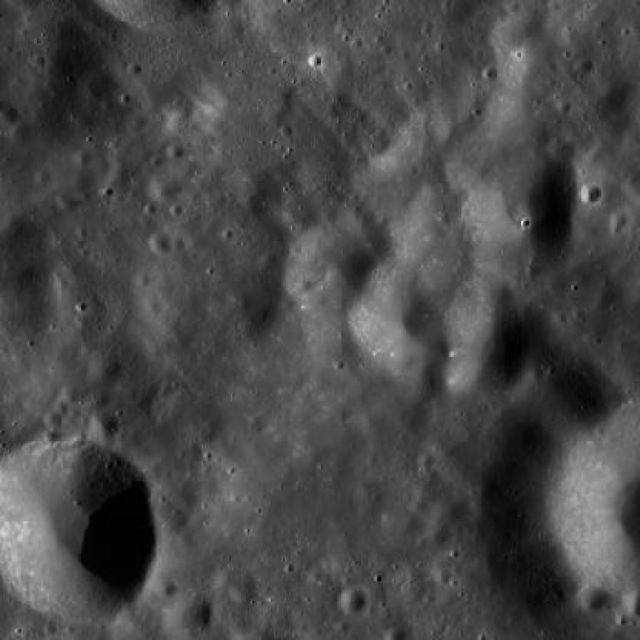crater: (0, 438, 163, 619), (143, 222, 282, 358), (456, 158, 582, 279), (422, 286, 538, 400), (192, 66, 305, 176), (287, 221, 384, 317), (351, 268, 444, 359), (362, 142, 449, 228), (530, 352, 616, 438), (392, 208, 472, 287), (0, 276, 57, 339), (498, 38, 558, 96), (490, 6, 548, 65), (0, 182, 45, 256), (300, 152, 354, 206), (164, 591, 213, 640), (504, 110, 548, 152), (406, 360, 448, 402), (384, 503, 426, 543), (280, 193, 318, 230), (414, 188, 451, 226), (353, 478, 389, 512), (400, 116, 434, 152), (417, 330, 451, 364), (86, 408, 120, 441), (187, 408, 221, 441), (599, 76, 632, 110), (85, 350, 118, 382), (82, 72, 116, 103), (398, 70, 430, 102), (149, 170, 180, 201), (354, 406, 384, 436), (579, 583, 610, 612), (439, 494, 468, 523), (458, 89, 488, 117), (230, 573, 258, 602), (433, 120, 461, 148), (340, 586, 366, 612), (241, 184, 267, 210), (548, 136, 574, 162), (108, 164, 134, 190), (428, 520, 452, 546), (398, 578, 424, 602), (168, 96, 192, 122), (214, 569, 238, 594), (156, 576, 178, 598), (579, 182, 601, 204), (594, 288, 616, 310), (150, 231, 172, 252), (10, 124, 32, 144), (0, 105, 20, 126), (319, 203, 338, 222), (222, 16, 241, 35), (384, 624, 404, 640), (612, 210, 630, 227), (296, 274, 313, 291), (434, 568, 452, 584), (168, 143, 185, 159), (576, 56, 592, 73), (2, 209, 18, 226), (412, 497, 430, 512), (60, 196, 76, 210)
